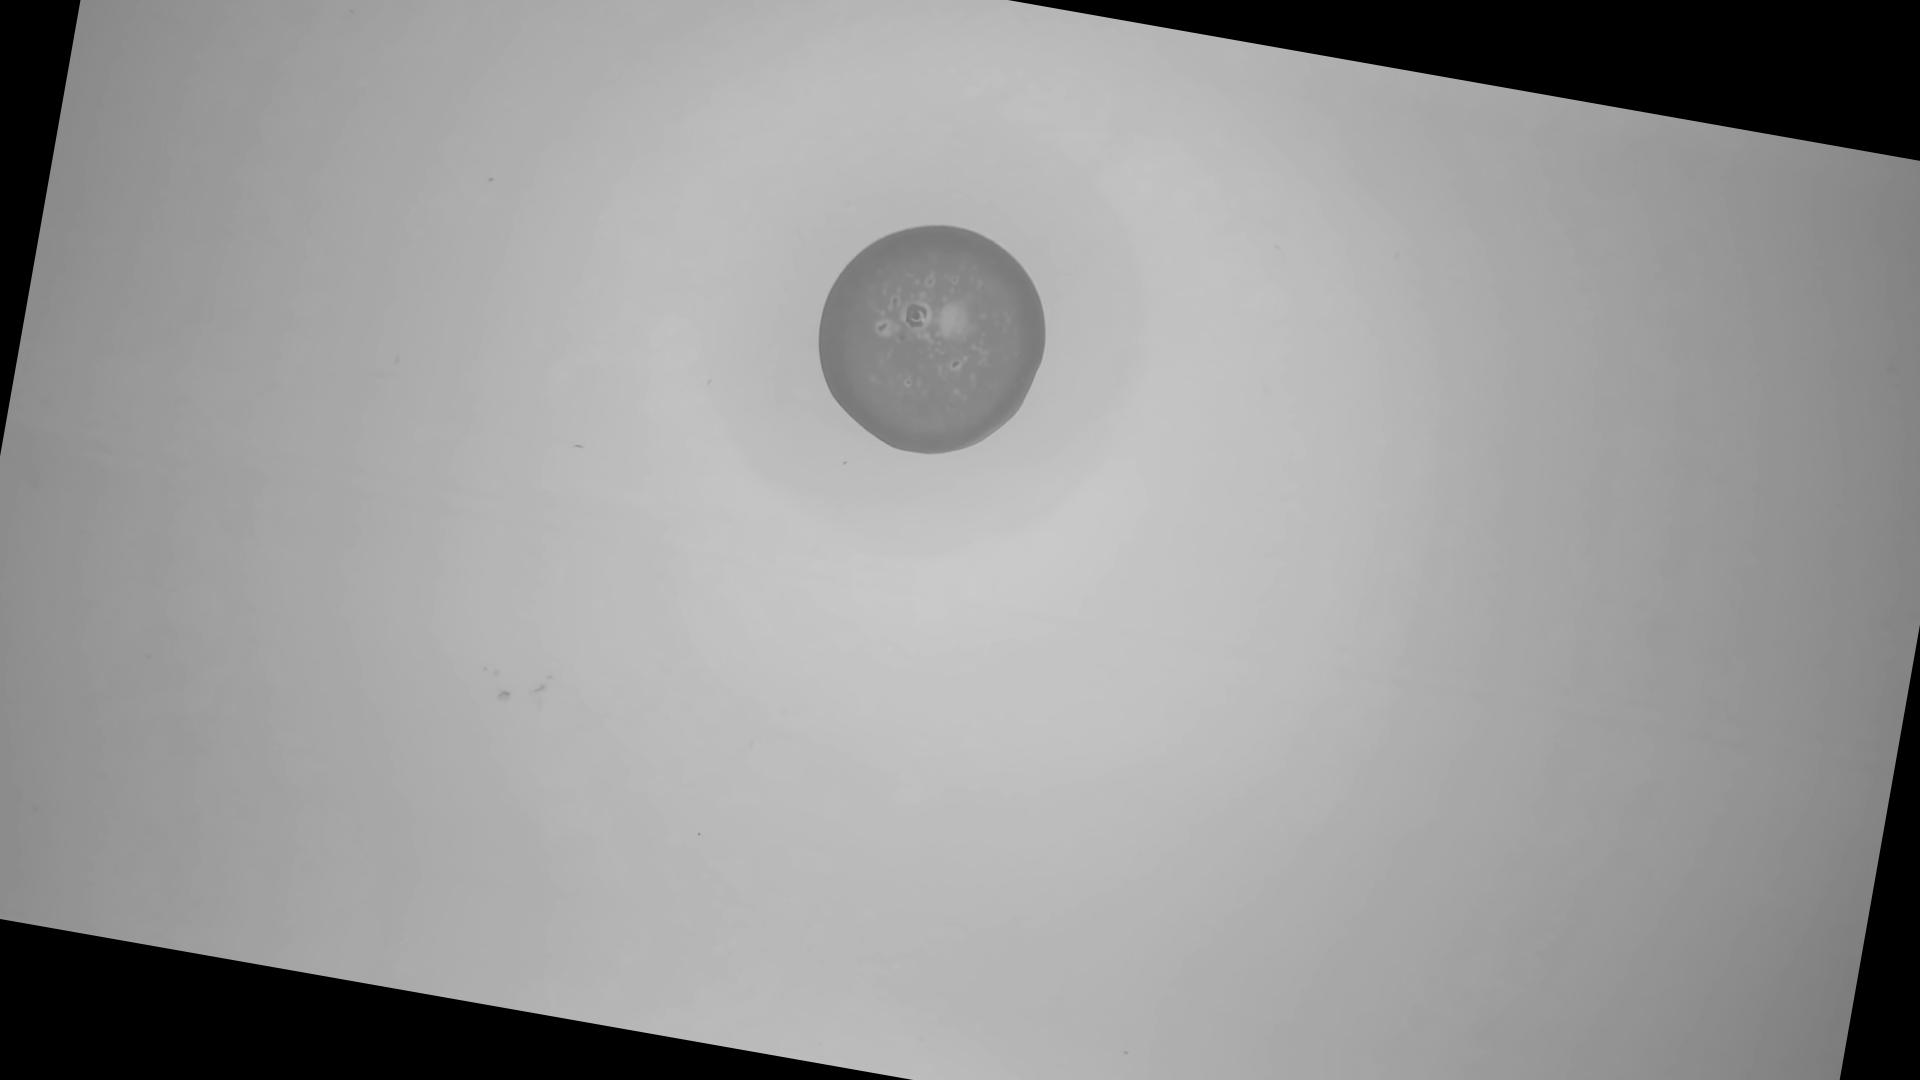abnormal: (799, 204, 1068, 477)
